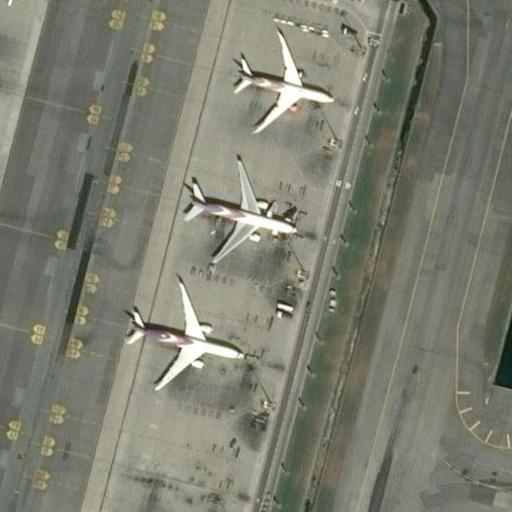Aircraft: (118, 277, 250, 395), (174, 149, 304, 267), (222, 20, 336, 139), (0, 0, 27, 8)
